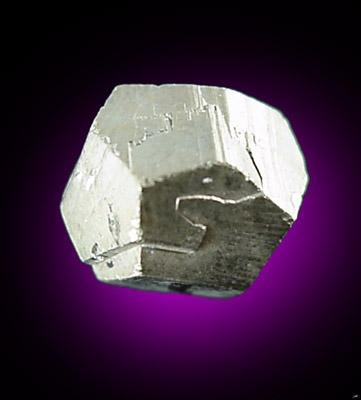pyrite: (59, 84, 310, 300)
